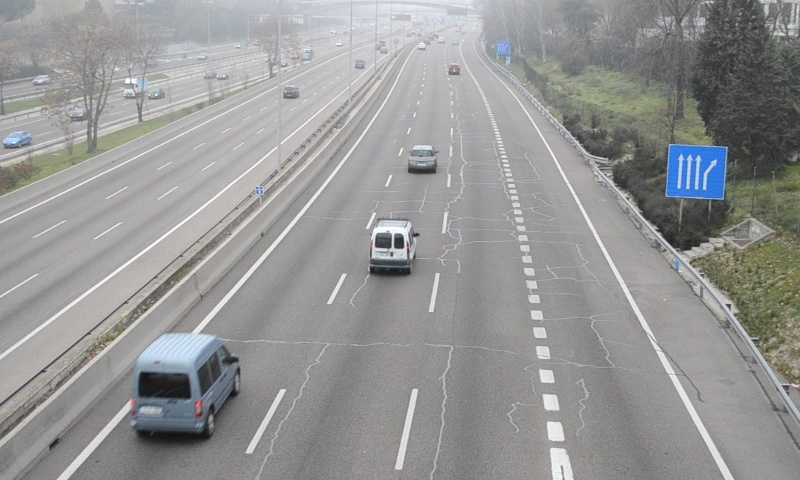car: (407, 144, 436, 172)
van: (132, 334, 240, 438), (368, 219, 416, 274)
